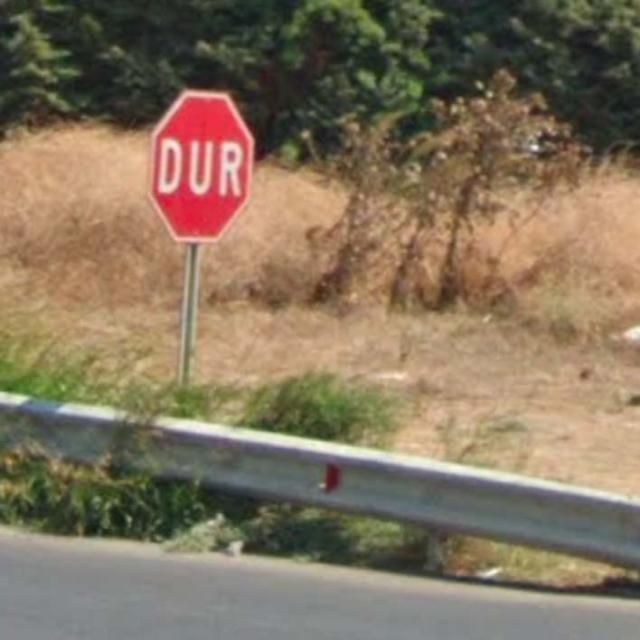dur: (150, 89, 252, 243)
